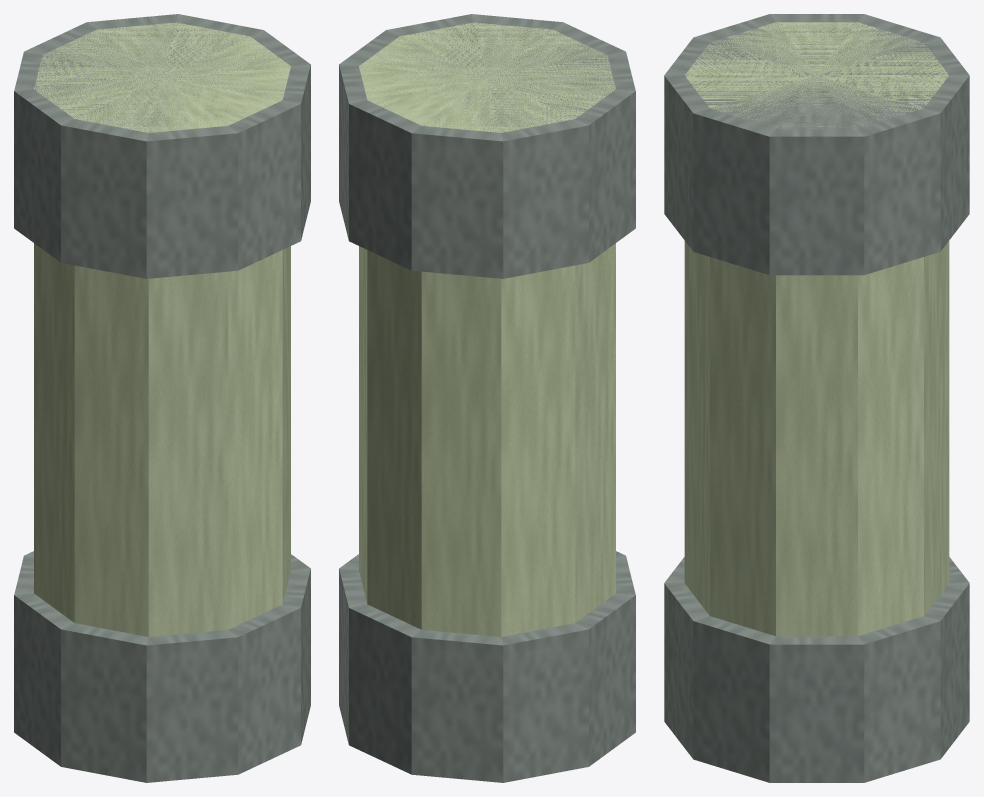
File: Fuse.glb
3 views of the same model, side by side, from view 1: azimuth 30°, elevation 25°; view 2: azimuth 150°, elevation 25°; view 3: azimuth 270°, elevation 25° (orthographic).
Visible parts, largest first — view 1: Fuse; view 2: Fuse; view 3: Fuse.
Part boxes in pixels (x1,y1,x2,y2): Fuse: [14, 14, 310, 782]; Fuse: [339, 14, 635, 782]; Fuse: [664, 14, 969, 782].
Bounding box in the file's own units: 0.0285 × 0.07 × 0.03.
2 materials, 2 textured.
